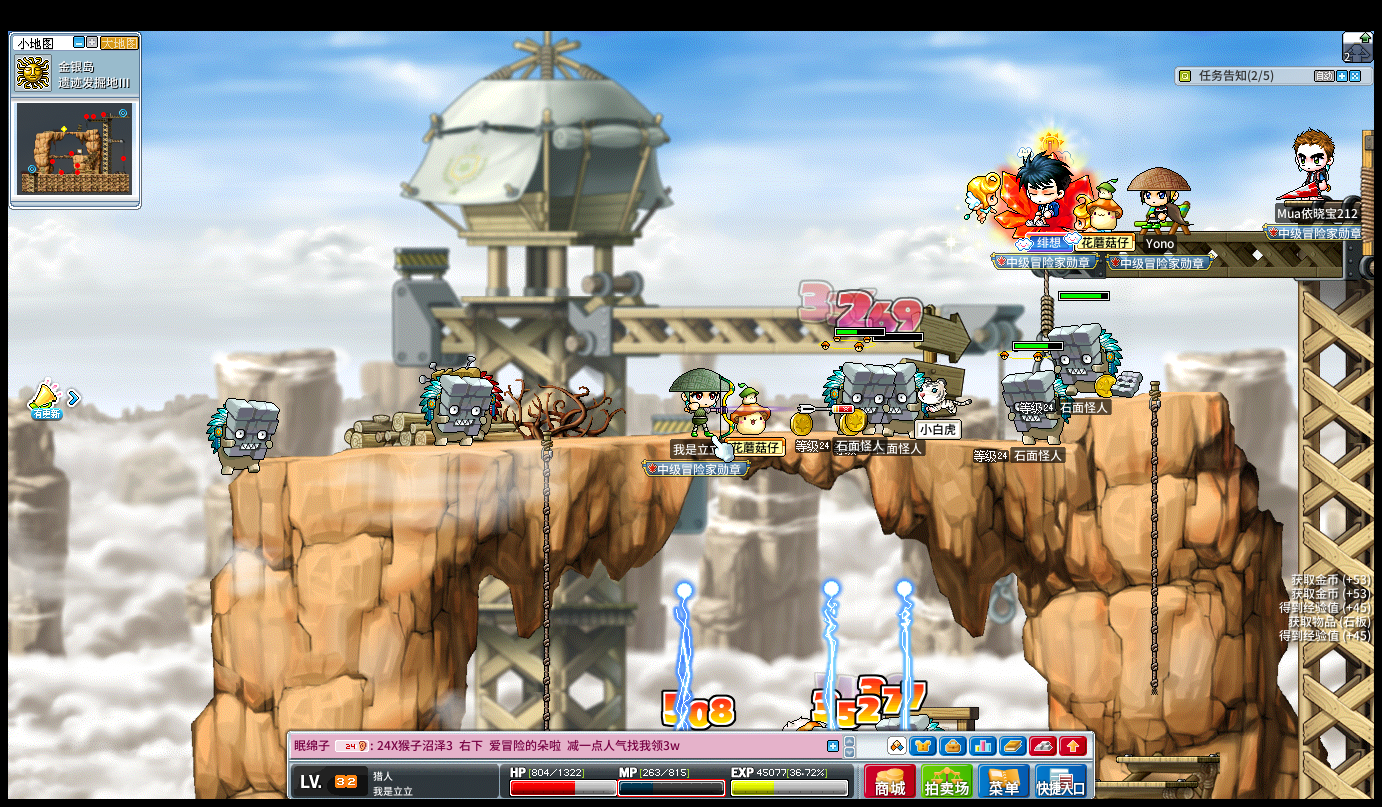floor: (229, 423, 1141, 458), (218, 420, 1110, 450), (1122, 387, 1227, 403), (1116, 753, 1219, 765)
monster: (205, 398, 280, 476), (419, 373, 494, 448), (1003, 370, 1069, 443), (823, 360, 888, 434), (1065, 321, 1123, 398), (885, 360, 923, 435)
rope: (1146, 378, 1160, 700), (539, 429, 551, 785), (540, 429, 552, 672)
